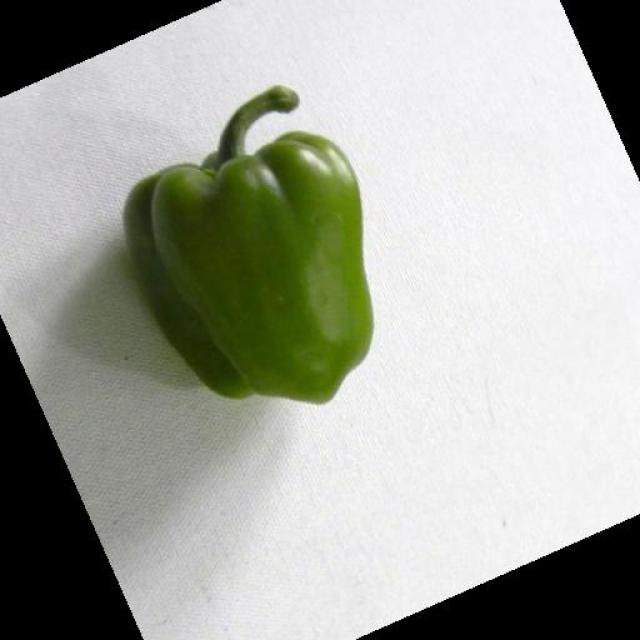Fresh_Capsicum: (111, 131, 428, 417)
